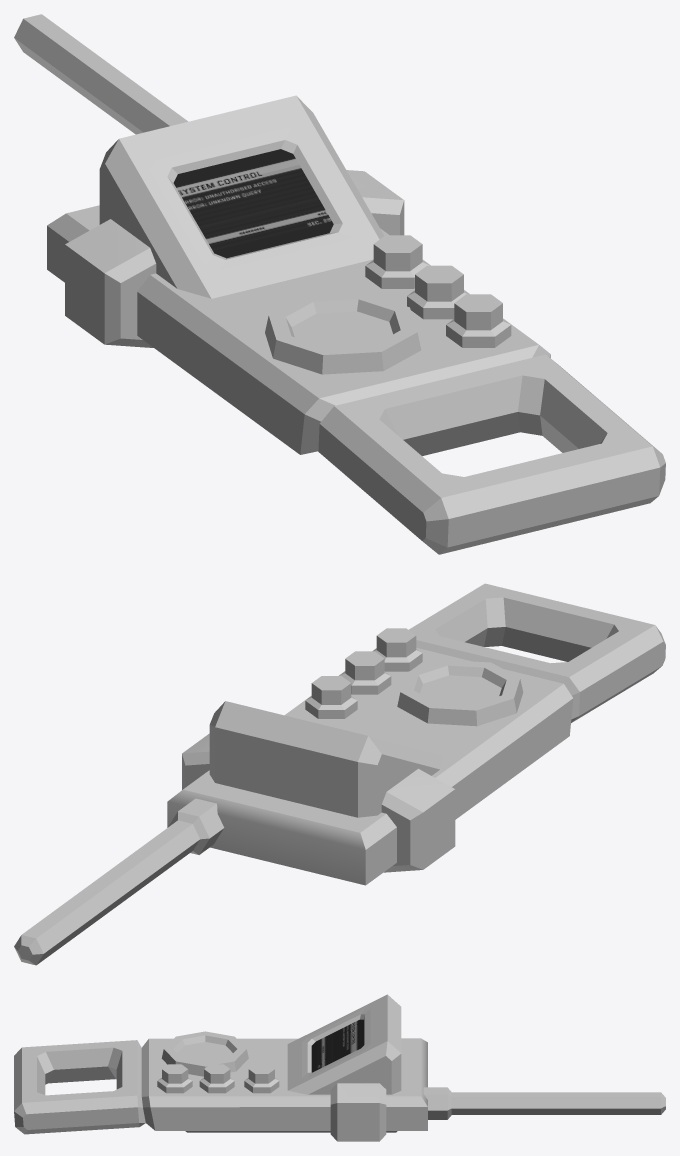
Rendered from SM_Prop_Communicator_01.fbx.
3 renders of one model, top to bottom at view 1: azimuth 30°, elevation 25°; view 2: azimuth 150°, elevation 25°; view 3: azimuth 270°, elevation 25°, orthographic. The views are drawn at different scales.
Visible parts, largest first — view 1: SM_Prop_Communicator_01; view 2: SM_Prop_Communicator_01; view 3: SM_Prop_Communicator_01.
Part boxes in pixels (box(x1,y1,x2,y2)): SM_Prop_Communicator_01: box(14, 14, 665, 554); SM_Prop_Communicator_01: box(14, 583, 665, 965); SM_Prop_Communicator_01: box(14, 994, 665, 1141).
Bounding box in the file's own units: 24.58 × 13.88 × 86.01.
